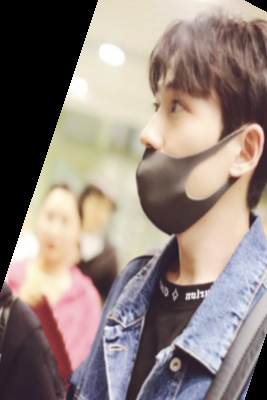mask_weared_incorrect: (116, 5, 267, 246)
